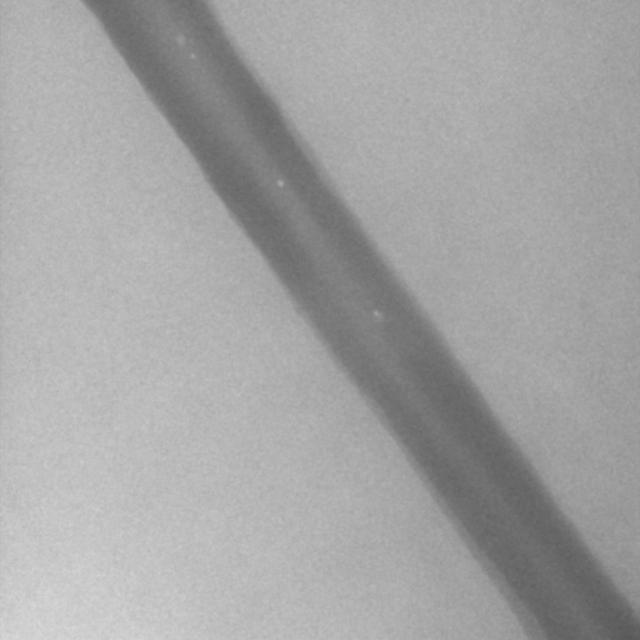air-hole: (369, 311, 381, 318), (176, 32, 183, 43), (192, 53, 198, 63), (279, 175, 284, 187)
